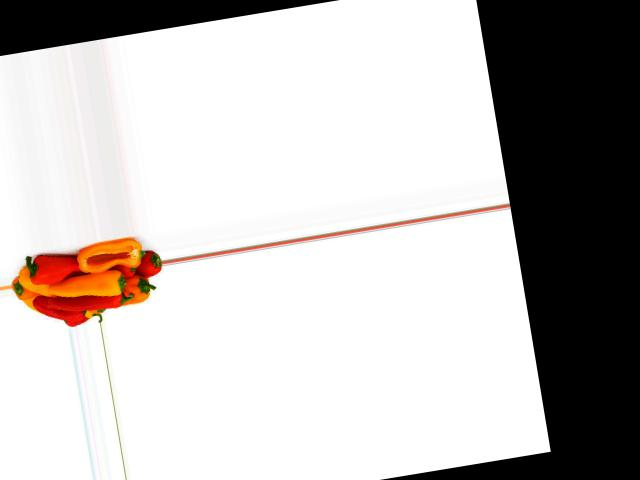bell_pepper: (117, 249, 165, 286)
